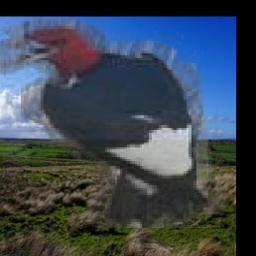Woodpecker: (0, 16, 228, 228)
